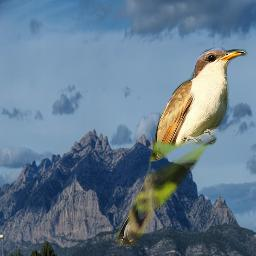Cuckoo: (113, 44, 249, 250)
